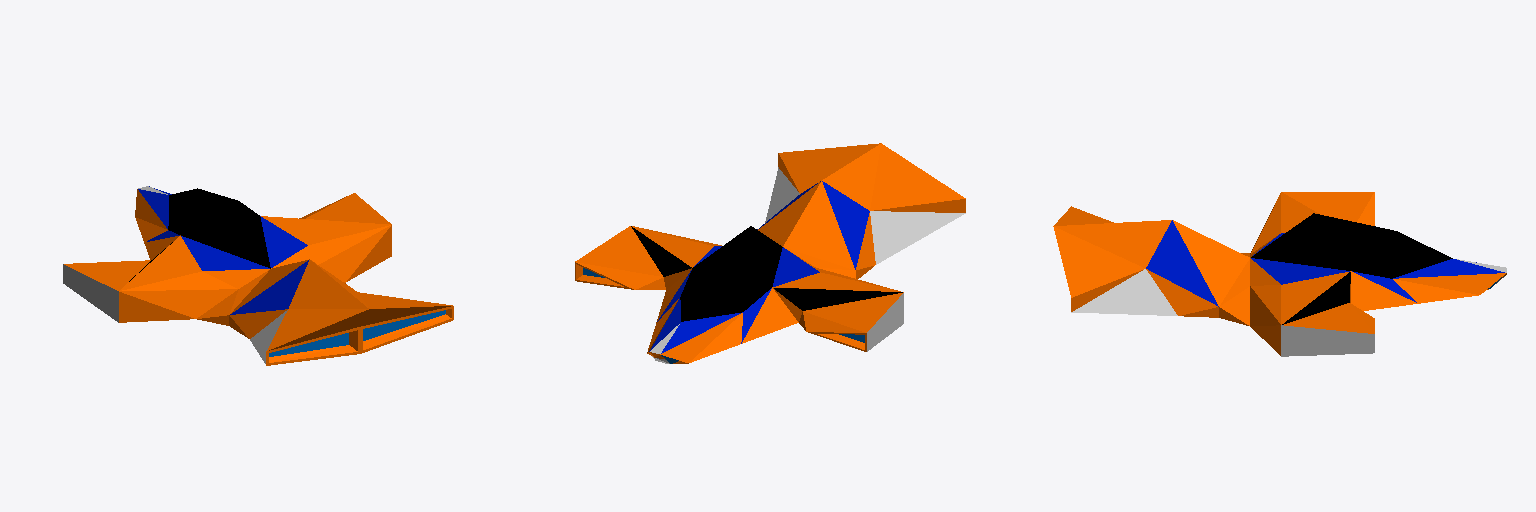
File: Nerotist.obj
The picture shows the model from 3 angles: view 1: azimuth 30°, elevation 25°; view 2: azimuth 150°, elevation 25°; view 3: azimuth 270°, elevation 25°; orthographic projection.
Parts seen in each view (by area): view 1: Cube_Cube.001; view 2: Cube_Cube.001; view 3: Cube_Cube.001.
Boxes of the visible parts, <box> form: Cube_Cube.001: <box>63,186,453,365</box>; Cube_Cube.001: <box>575,143,965,363</box>; Cube_Cube.001: <box>1053,192,1506,356</box>.
Bounding box in the file's own units: 12.74 × 3.57 × 17.13.